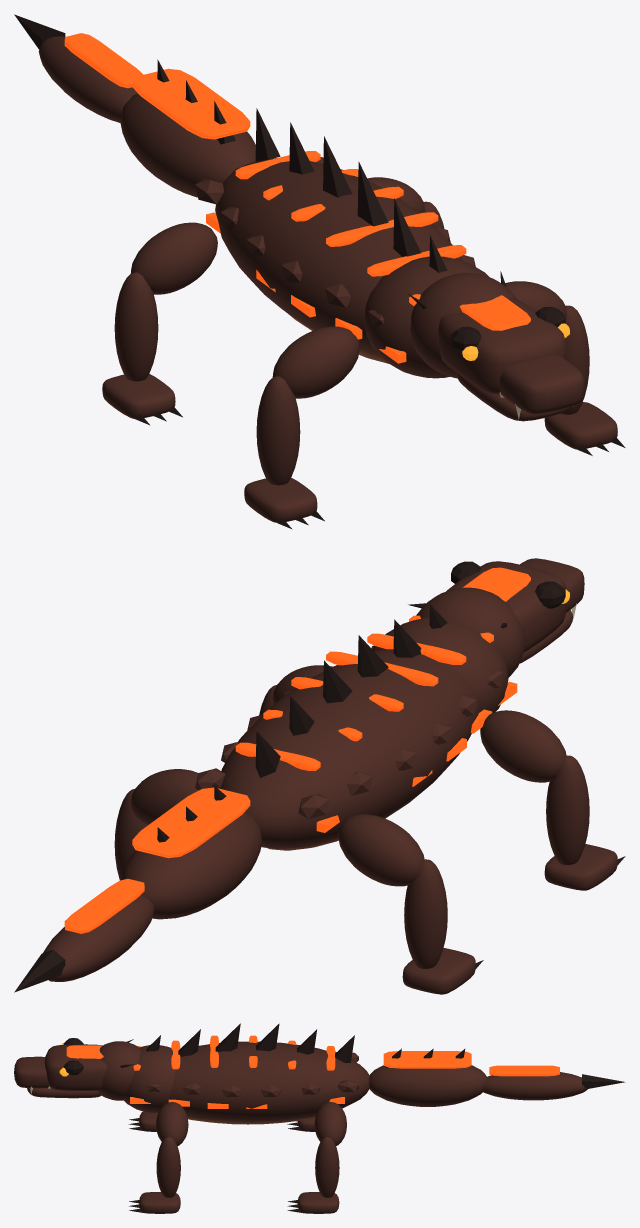
The model's file is lavovy_jaster.glb.
3 views of the same model, one above another, from view 1: azimuth 30°, elevation 25°; view 2: azimuth 150°, elevation 25°; view 3: azimuth 270°, elevation 25° (orthographic). The views are drawn at different scales.
Visible parts, largest first — view 1: telo, telo.018, telo.015, telo.001, pruh.019, telo.020, telo.026, telo.014, telo.016, telo.027, telo.021, telo.019 (+15 smaller); view 2: telo, telo.018, telo.026, telo.020, pruh.019, telo.019, telo.001, telo.014, telo.021, telo.027, telo.015, telo.029 (+19 smaller); view 3: telo, telo.018, telo.001, telo.019, telo.015, telo.014, pruh.019, telo.024, telo.030, telo.023, telo.029, telo.016 (+12 smaller).
Boxes of the visible parts, <box> form: telo: <box>215,158,463,355</box>; telo.018: <box>120,93,255,197</box>; telo.015: <box>438,298,566,394</box>; telo.001: <box>364,256,489,378</box>; pruh.019: <box>132,68,250,139</box>; telo.020: <box>272,326,359,398</box>; telo.026: <box>130,222,217,294</box>; telo.014: <box>410,273,516,378</box>; telo.016: <box>499,355,584,414</box>; telo.027: <box>114,272,158,381</box>; telo.021: <box>256,376,300,485</box>; telo.019: <box>38,36,137,122</box>; telo: <box>220,649,480,848</box>; telo.018: <box>121,812,261,919</box>; telo.026: <box>338,814,424,886</box>; telo.020: <box>480,710,566,782</box>; pruh.019: <box>132,787,250,858</box>; telo.019: <box>43,895,154,981</box>; telo.001: <box>372,617,508,712</box>; telo.014: <box>416,587,525,677</box>; telo.021: <box>546,755,589,864</box>; telo.027: <box>404,859,447,968</box>; telo.015: <box>446,561,566,652</box>; telo.029: <box>130,769,198,825</box>; telo: <box>169,1041,369,1121</box>; telo.018: <box>369,1065,487,1106</box>; telo.001: <box>123,1045,176,1112</box>; telo.019: <box>483,1072,587,1100</box>; telo.015: <box>44,1044,106,1090</box>; telo.014: <box>98,1041,140,1100</box>; pruh.019: <box>383,1051,471,1068</box>; telo.024: <box>156,1136,180,1197</box>; telo.030: <box>315,1136,339,1197</box>; telo.023: <box>156,1102,188,1146</box>; telo.029: <box>314,1102,346,1145</box>; telo.016: <box>14,1056,50,1088</box>.
Bounding box in the file's own units: 1.29 × 0.9091 × 3.47.
